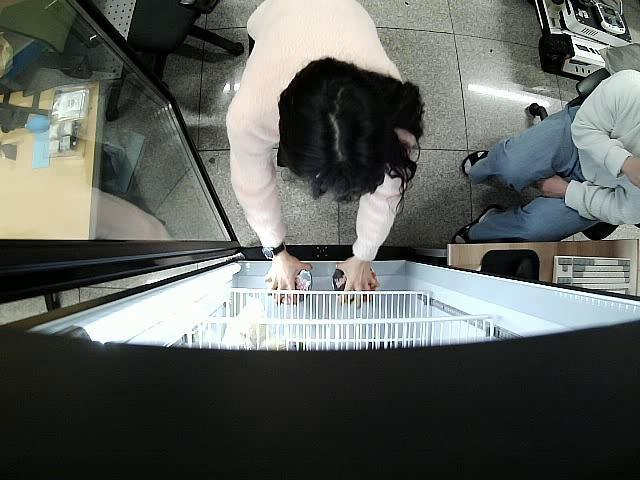07_buldak_L: (332, 266, 374, 307), (269, 270, 312, 303)
